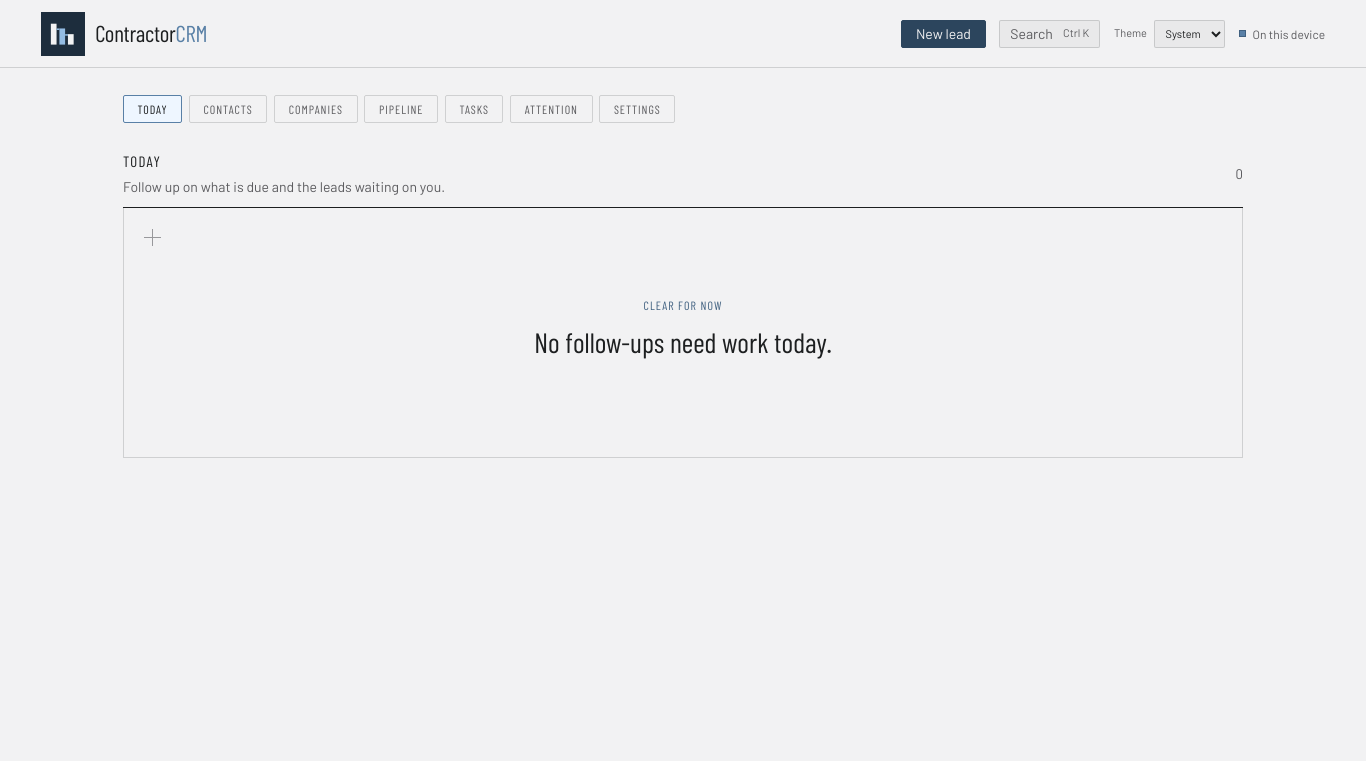
Test case: AI assistant settings › stores an API key write-only and reports only that one is saved
Click the button "Settings": x=637, y=109 [599,95,675,123]
(page scrolled)
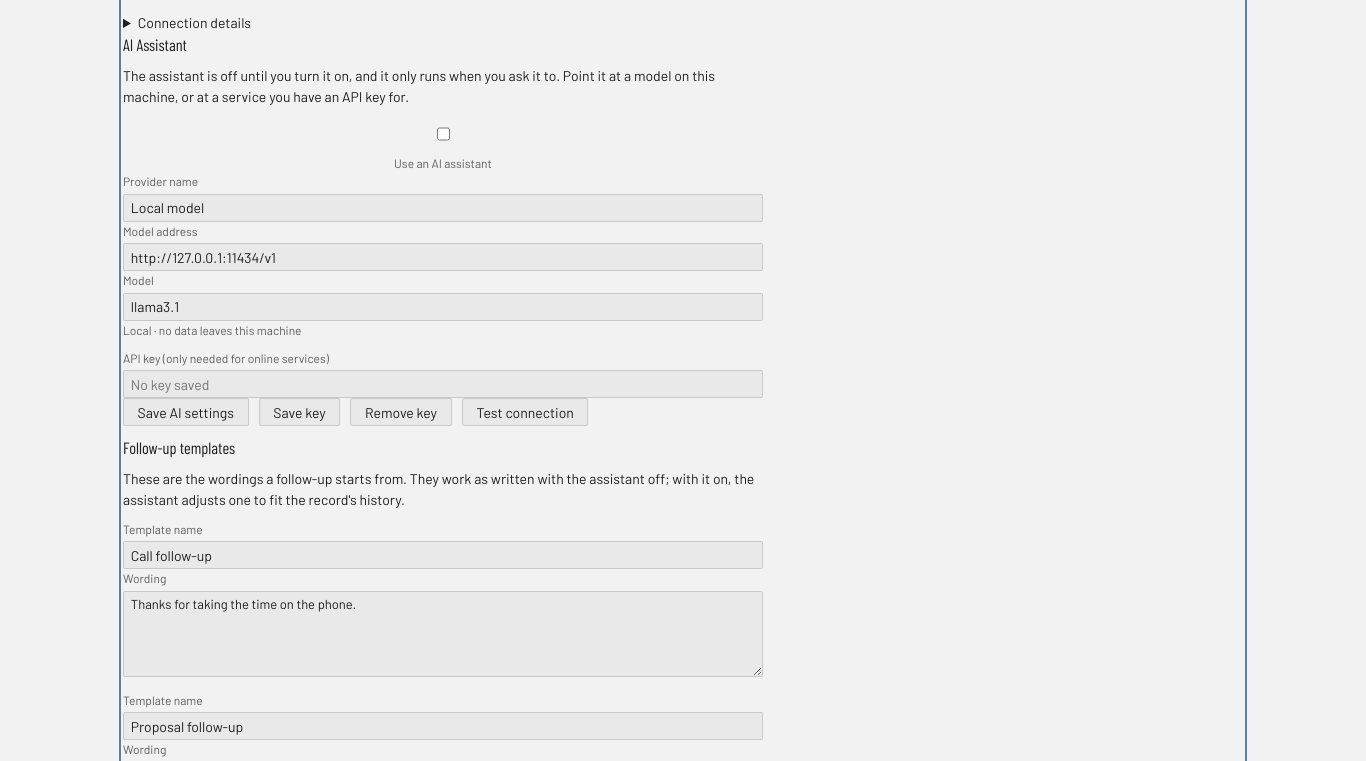
In the password field labelled "API key (only needed for online services)": x=443, y=384 [123,370,763,398], type "sk-secret-key"
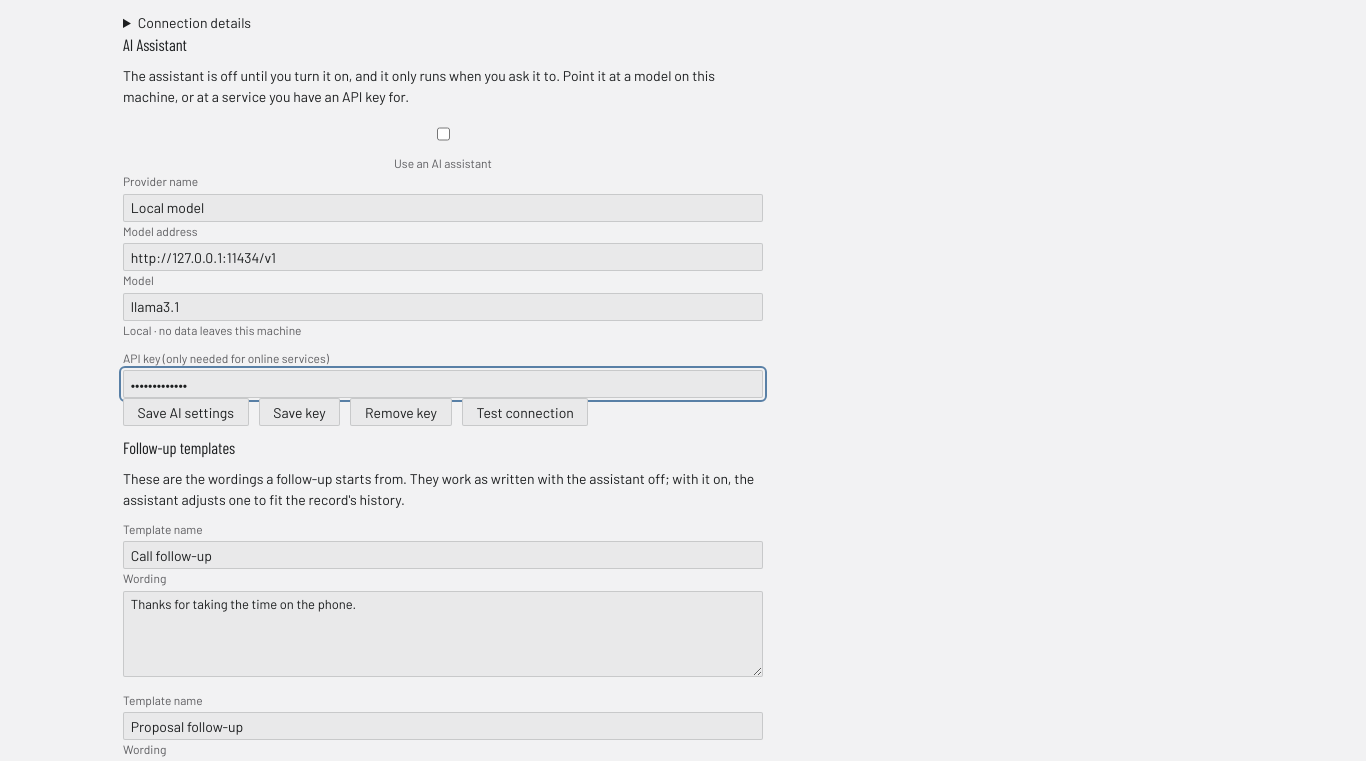
Click the button "Save key": x=300, y=412 [259,398,340,426]
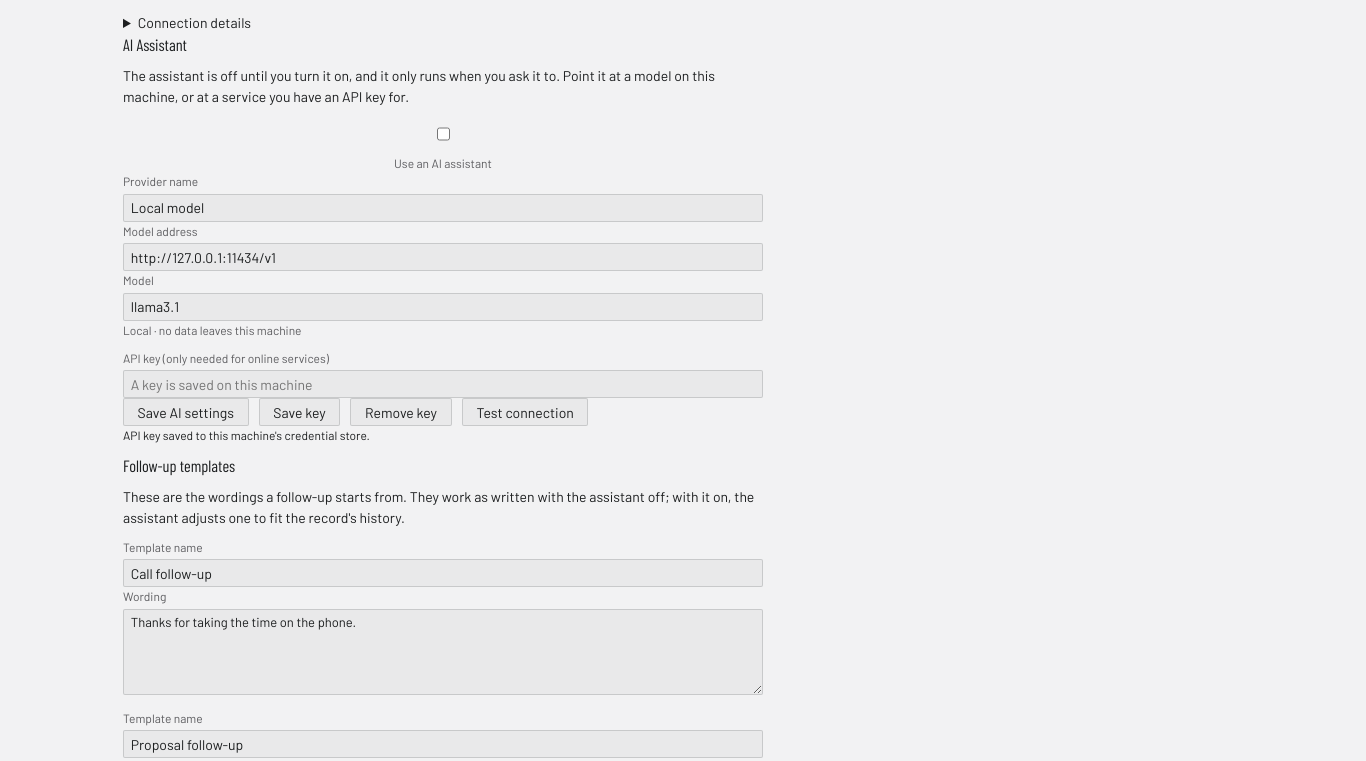
Result: the text "API key saved to this machine's credential store." is shown at [123,428,370,442]
Result: the password field labelled "API key (only needed for online services)" is empty at [123,370,763,398]
